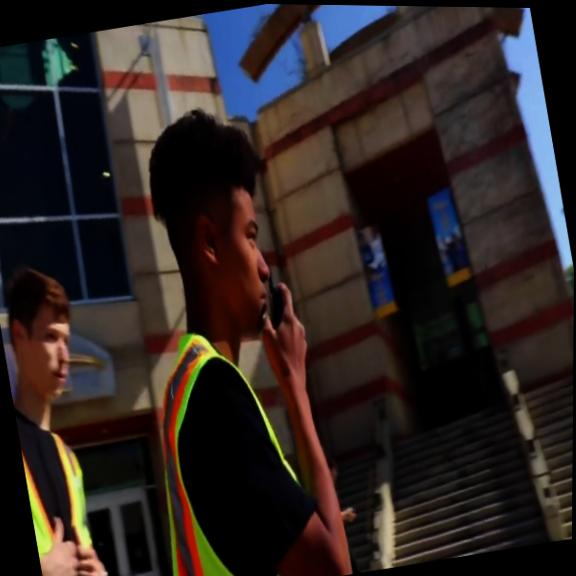safety_vest: (125, 314, 318, 576), (11, 393, 107, 576)
